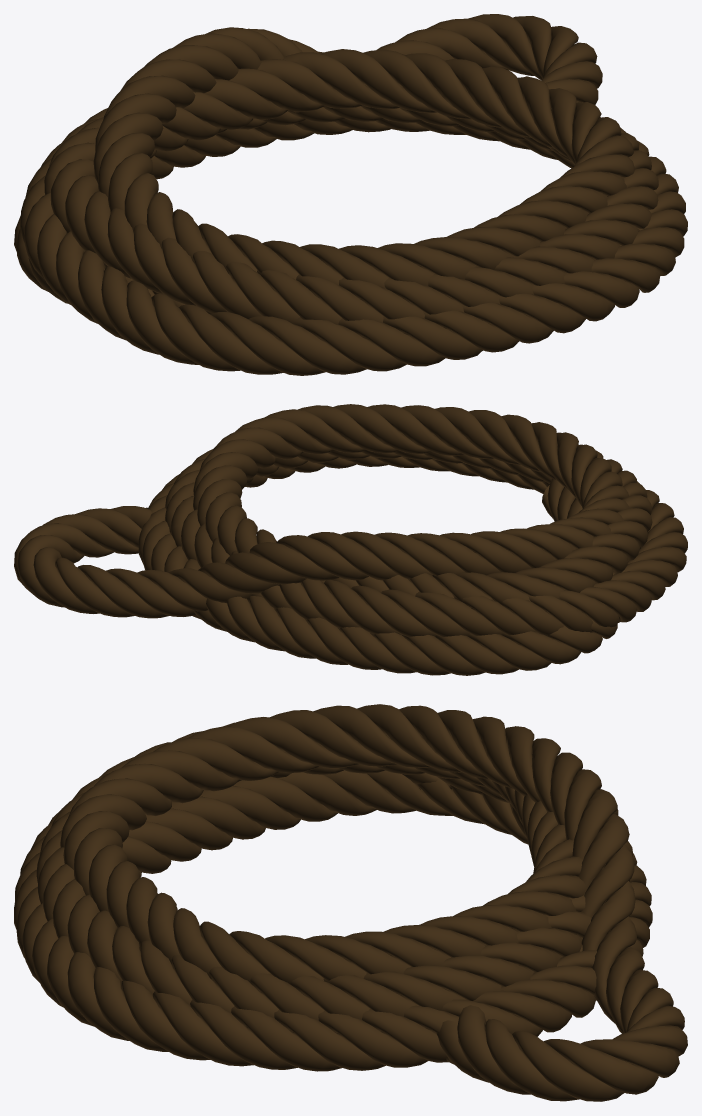
File: Seil3.fbx
3 renders of one model, top to bottom at view 1: azimuth 30°, elevation 25°; view 2: azimuth 150°, elevation 25°; view 3: azimuth 270°, elevation 25°, orthographic. The views are drawn at different scales.
Visible parts, largest first — view 1: Circle; view 2: Circle; view 3: Circle.
Boxes of the visible parts, x1,y1,x2,y2 form: Circle: [14, 14, 687, 375]; Circle: [14, 404, 687, 675]; Circle: [14, 704, 687, 1101].
Size of the model in its own units: 302 by 65.57 by 262.
